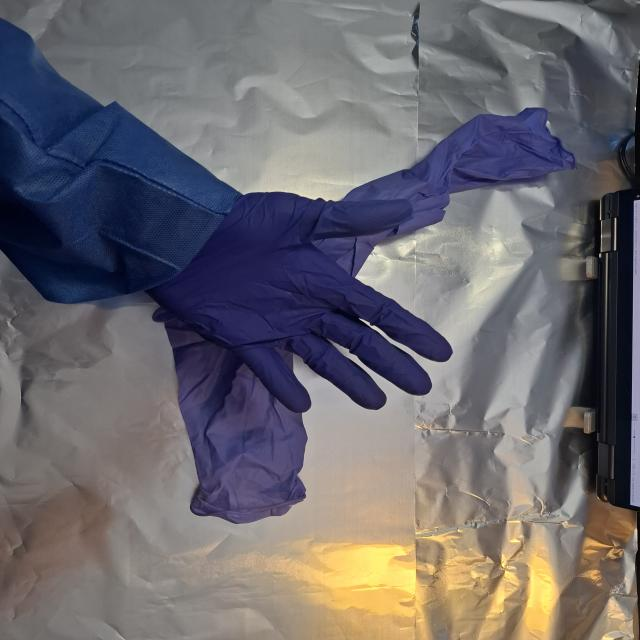glove_on: (143, 189, 457, 415)
